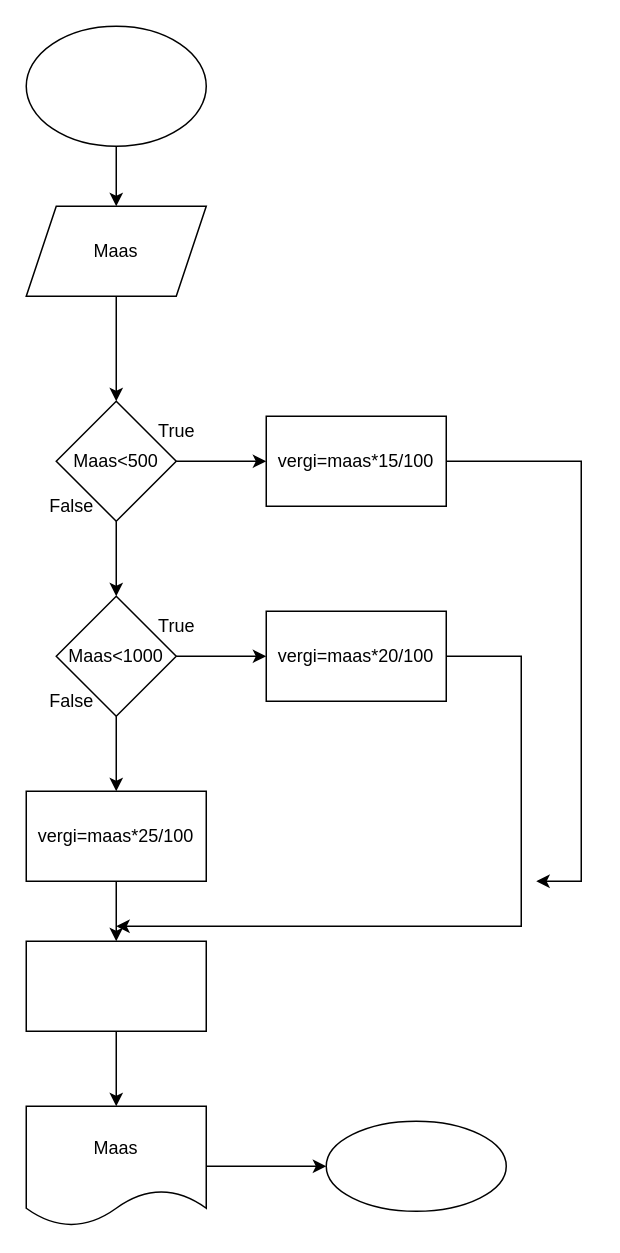
This 620x1253 diagram has some shape labels left out. Here are the shapes that lost their labels. From the top down, the centre of each, then its label:
At (115,85): "Başla".
At (115,985): "maas=maas-vergi".
At (415,1165): "Dur".
